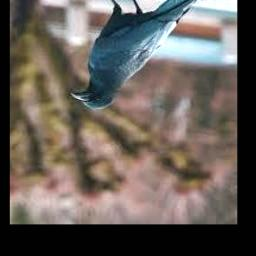Crow: (71, 0, 211, 110)
